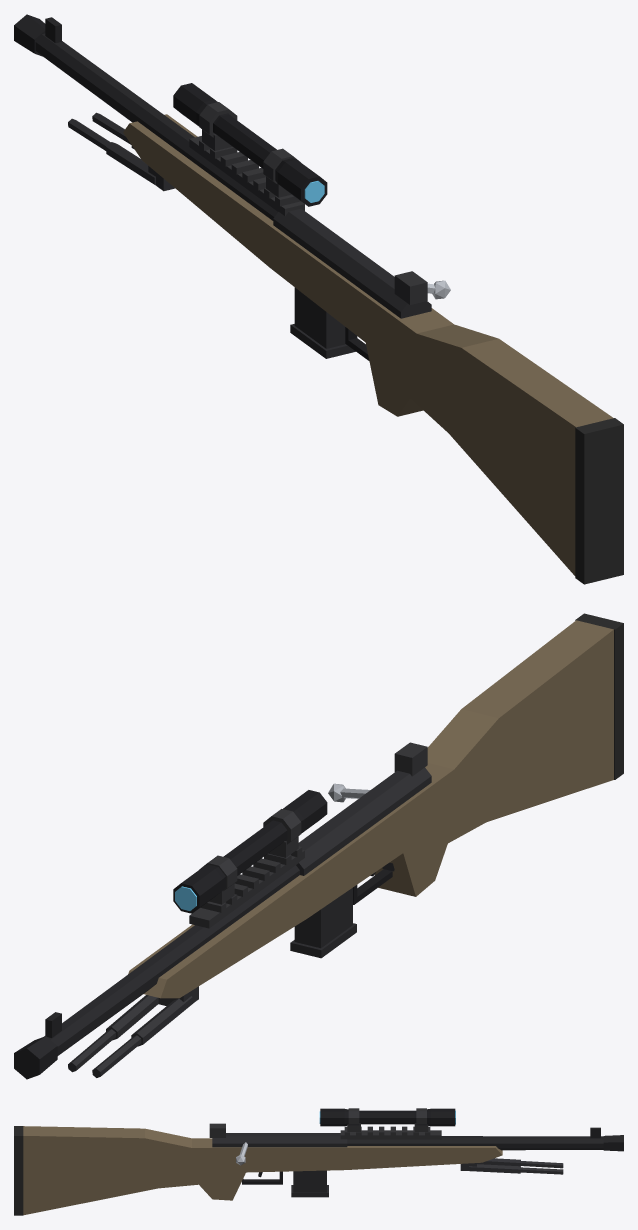
Rendered from Kestrel.obj.
The picture shows the model from 3 angles, top to bottom: view 1: azimuth 30°, elevation 25°; view 2: azimuth 150°, elevation 25°; view 3: azimuth 270°, elevation 25°; orthographic projection. The views are drawn at different scales.
Parts seen in each view (by area): view 1: Stock, Pad, Barrel, Mount, Body, Scope, Magazine, Bipod, Muzzle; view 2: Stock, Barrel, Mount, Body, Scope, Bipod, Magazine, Pad, Muzzle, Trigger; view 3: Stock, Barrel, Scope, Mount, Body, Bipod, Magazine, Pad, Muzzle, Trigger.
Boxes of the visible parts, x1=… form: Stock: x1=123, y1=114, x2=613, y2=575; Pad: x1=575, y1=418, x2=623, y2=584; Barrel: x1=35, y1=33, x2=277, y2=220; Mount: x1=189, y1=102, x2=427, y2=304; Body: x1=273, y1=208, x2=431, y2=318; Scope: x1=173, y1=83, x2=327, y2=206; Magazine: x1=290, y1=287, x2=355, y2=358; Bipod: x1=68, y1=112, x2=174, y2=191; Muzzle: x1=14, y1=14, x2=61, y2=56; Stock: x1=128, y1=620, x2=613, y2=998; Barrel: x1=44, y1=865, x2=299, y2=1055; Mount: x1=189, y1=742, x2=427, y2=928; Body: x1=296, y1=767, x2=431, y2=875; Scope: x1=173, y1=790, x2=327, y2=913; Bipod: x1=68, y1=986, x2=198, y2=1077; Magazine: x1=290, y1=887, x2=356, y2=958; Pad: x1=575, y1=613, x2=623, y2=779; Muzzle: x1=14, y1=1012, x2=61, y2=1079; Trigger: x1=353, y1=862, x2=394, y2=904; Stock: x1=23, y1=1126, x2=502, y2=1215; Barrel: x1=347, y1=1136, x2=603, y2=1150; Scope: x1=320, y1=1108, x2=455, y2=1126; Mount: x1=209, y1=1108, x2=441, y2=1139; Body: x1=212, y1=1133, x2=347, y2=1147; Bipod: x1=460, y1=1158, x2=563, y2=1174; Magazine: x1=291, y1=1170, x2=328, y2=1197; Pad: x1=14, y1=1126, x2=23, y2=1215; Muzzle: x1=590, y1=1127, x2=623, y2=1151; Trigger: x1=242, y1=1171, x2=282, y2=1184.
Size of the model in its own units: 0.3557 by 0.8228 by 4.52.
